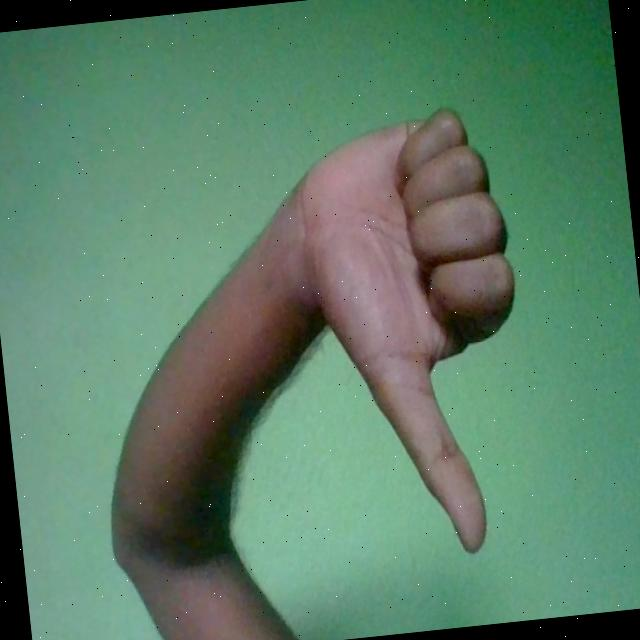Dislike: (284, 101, 542, 572)
